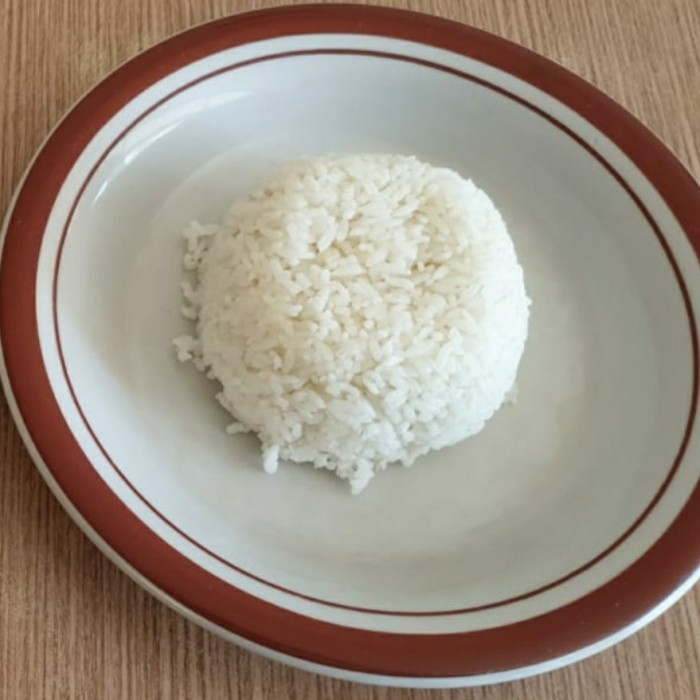Nasi Putih: (105, 172, 544, 437)
